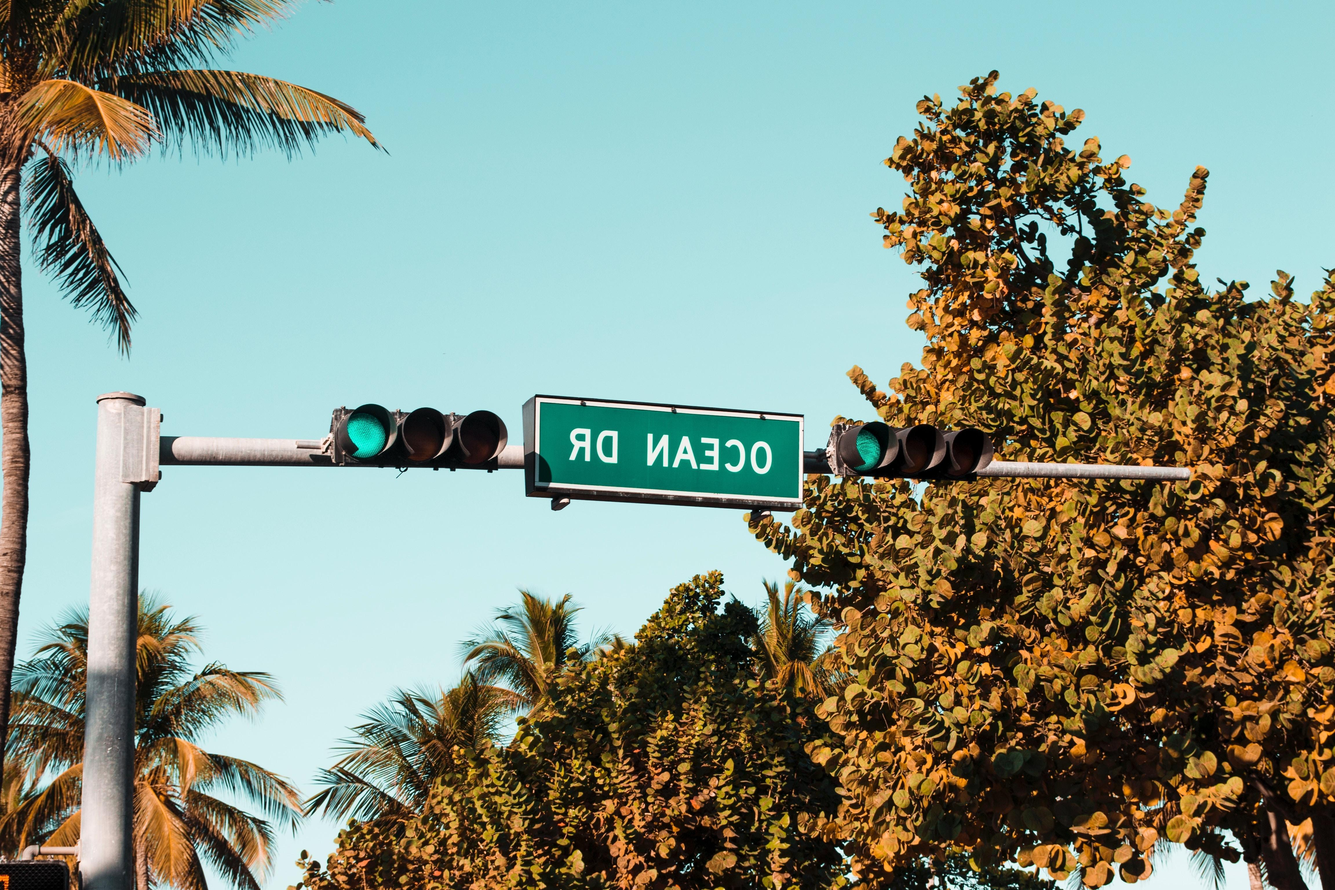green: (293, 380, 530, 504)
